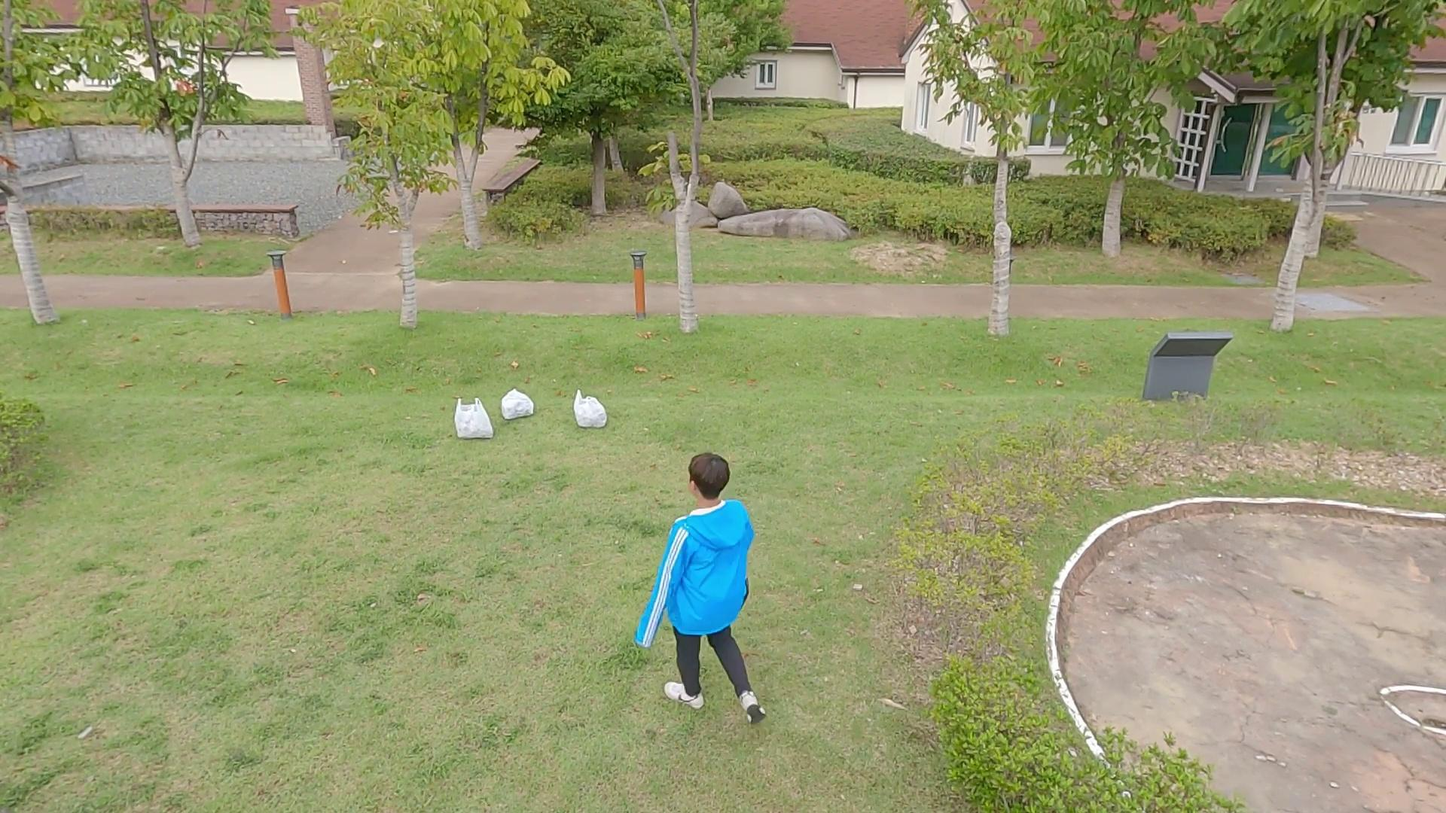person: (637, 448, 778, 727)
trash: (445, 397, 504, 448), (567, 390, 614, 433), (498, 388, 541, 423)
